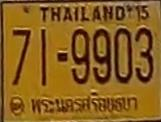0: (113, 28, 132, 82)
1: (40, 28, 47, 85)
3: (134, 27, 153, 82)
7: (12, 29, 31, 86)
9: (71, 28, 91, 85), (92, 28, 111, 85)
AYA: (26, 90, 142, 118)
